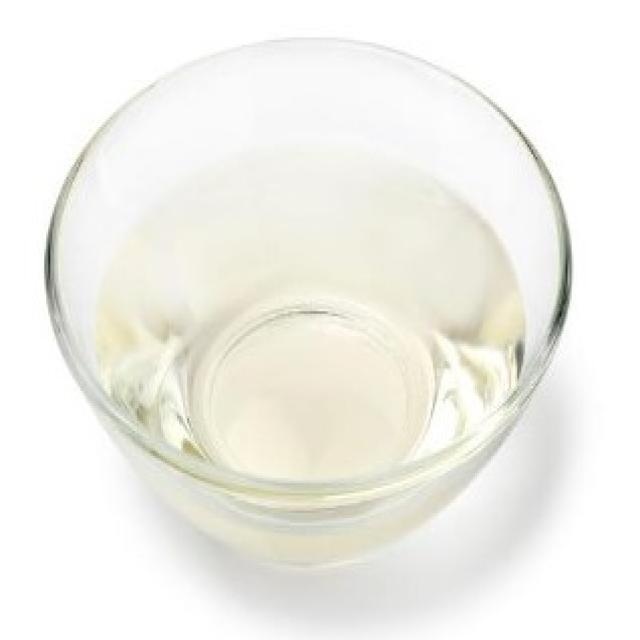electronic: (43, 51, 573, 577)
